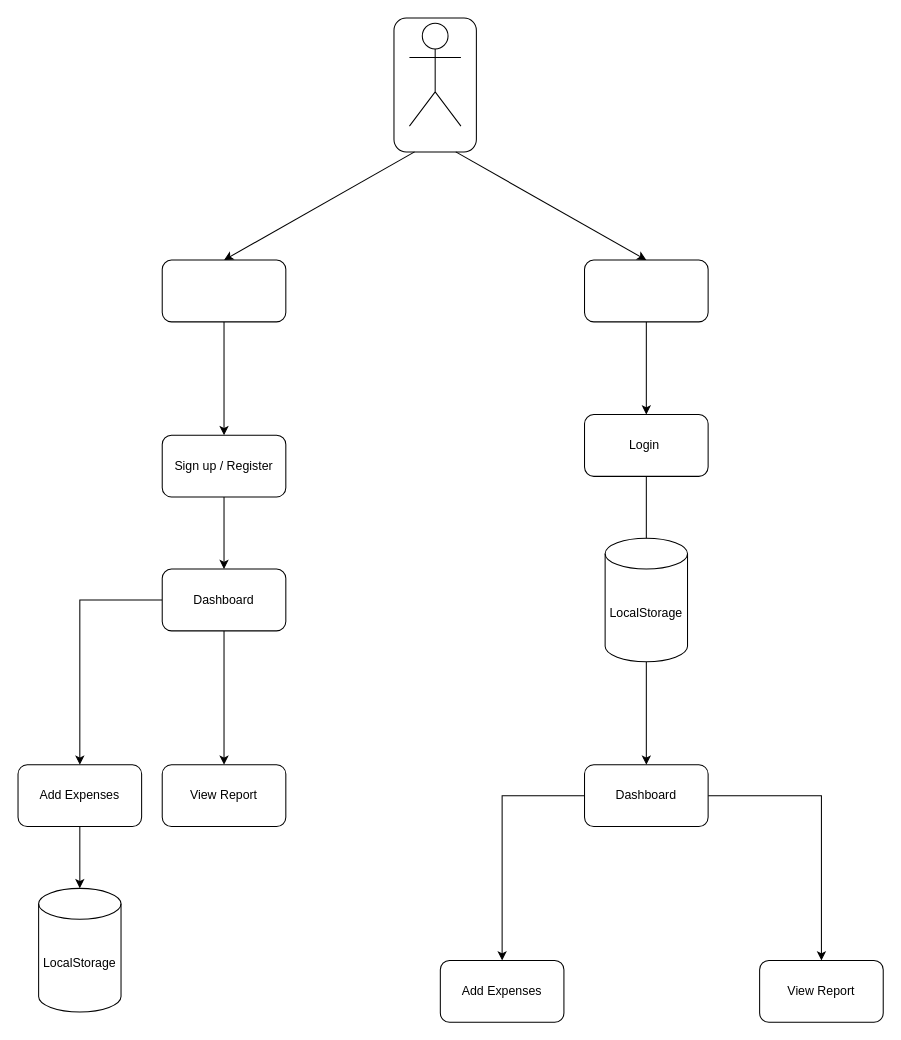
Image size: 901x1040. Some labels were removed from this diagram. The box of each missing label's shape, as (x1, y1, x2, y2) in pixels:
Don't Have Account: (161, 259, 286, 322)
Have Account: (583, 259, 708, 322)
User: (408, 22, 461, 126)
